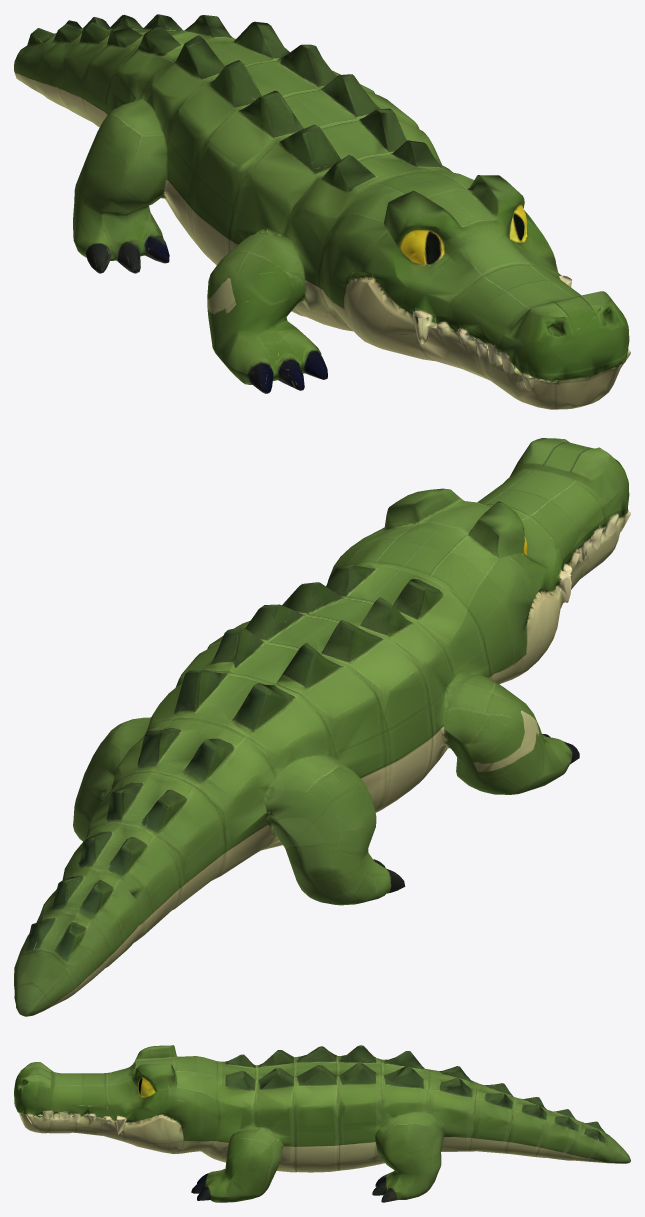
File: Aligator.glb
3 renders of one model, top to bottom at view 1: azimuth 30°, elevation 25°; view 2: azimuth 150°, elevation 25°; view 3: azimuth 270°, elevation 25°, orthographic. The views are drawn at different scales.
Visible parts, largest first — view 1: Mesh1.0; view 2: Mesh1.0; view 3: Mesh1.0.
Part boxes in pixels (x1,y1,x2,y2): Mesh1.0: [14, 14, 630, 409]; Mesh1.0: [14, 438, 630, 1016]; Mesh1.0: [14, 1045, 630, 1202].
Bounding box in the file's own units: 0.7097 × 0.4 × 2.07.
1 material, 1 textured.
